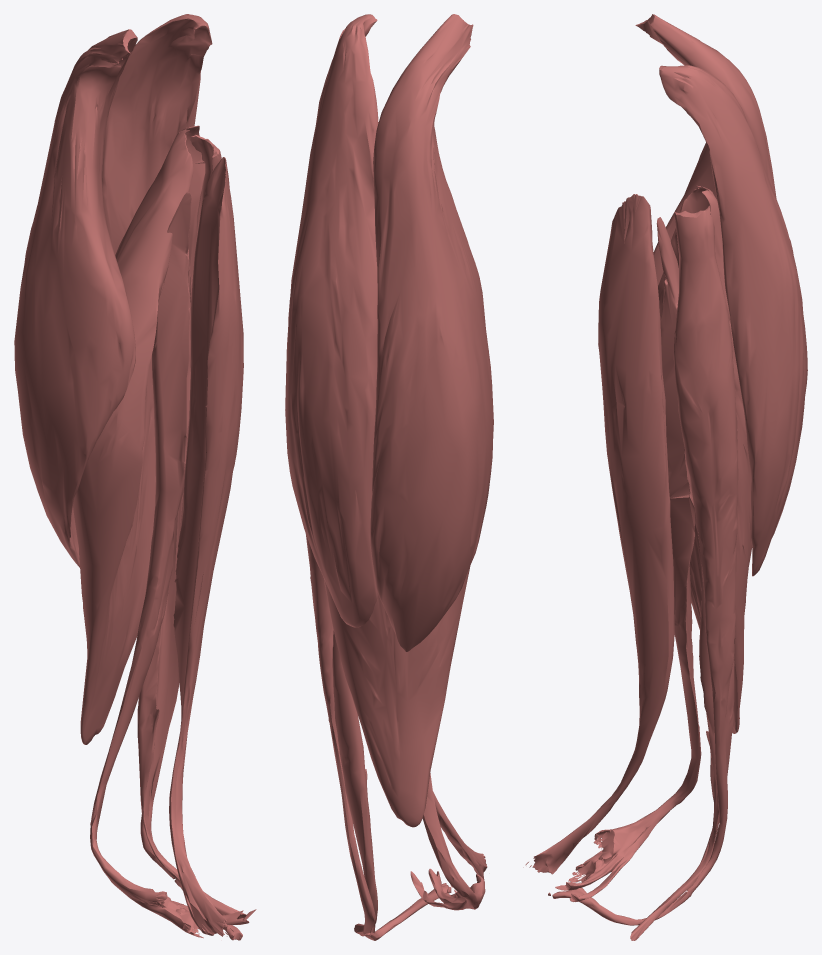
The model's file is muscular-leg-left.glb.
3 views of the same model, side by side, from view 1: azimuth 30°, elevation 25°; view 2: azimuth 150°, elevation 25°; view 3: azimuth 270°, elevation 25° (orthographic). The views are drawn at different scales.
Parts seen in each view (by area): view 1: bp3d_FMA45958_FJ1397M, bp3d_FMA22559_FJ1437M, bp3d_FMA22545_FJ1439M, bp3d_FMA65019_FJ1440M, bp3d_FMA45961_FJ1394M, bp3d_FMA22555_FJ1409M, bp3d_FMA22553_FJ1410M; view 2: bp3d_FMA45958_FJ1397M, bp3d_FMA45961_FJ1394M, bp3d_FMA22559_FJ1437M, bp3d_FMA22553_FJ1410M, bp3d_FMA22555_FJ1409M, bp3d_FMA65019_FJ1440M, bp3d_FMA22545_FJ1439M; view 3: bp3d_FMA22545_FJ1439M, bp3d_FMA45961_FJ1394M, bp3d_FMA22553_FJ1410M, bp3d_FMA65019_FJ1440M, bp3d_FMA22559_FJ1437M, bp3d_FMA45958_FJ1397M, bp3d_FMA22555_FJ1409M.
Part boxes in pixels (left/top/right/bottom): bp3d_FMA45958_FJ1397M: left=14, top=29, right=137, bottom=567; bp3d_FMA22559_FJ1437M: left=73, top=125, right=205, bottom=744; bp3d_FMA22545_FJ1439M: left=169, top=157, right=243, bottom=936; bp3d_FMA65019_FJ1440M: left=90, top=192, right=256, bottom=938; bp3d_FMA45961_FJ1394M: left=102, top=14, right=212, bottom=254; bp3d_FMA22555_FJ1409M: left=137, top=491, right=246, bottom=918; bp3d_FMA22553_FJ1410M: left=140, top=135, right=242, bottom=940; bp3d_FMA45958_FJ1397M: left=370, top=14, right=493, bottom=651; bp3d_FMA45961_FJ1394M: left=285, top=14, right=378, bottom=627; bp3d_FMA22559_FJ1437M: left=324, top=566, right=470, bottom=827; bp3d_FMA22553_FJ1410M: left=305, top=533, right=452, bottom=940; bp3d_FMA22555_FJ1409M: left=332, top=631, right=377, bottom=936; bp3d_FMA65019_FJ1440M: left=410, top=773, right=485, bottom=910; bp3d_FMA22545_FJ1439M: left=433, top=791, right=487, bottom=882; bp3d_FMA22545_FJ1439M: left=523, top=194, right=674, bottom=874; bp3d_FMA45961_FJ1394M: left=659, top=65, right=807, bottom=576; bp3d_FMA22553_FJ1410M: left=548, top=205, right=738, bottom=925; bp3d_FMA65019_FJ1440M: left=555, top=217, right=701, bottom=901; bp3d_FMA22559_FJ1437M: left=658, top=185, right=751, bottom=733; bp3d_FMA45958_FJ1397M: left=635, top=14, right=776, bottom=547; bp3d_FMA22555_FJ1409M: left=630, top=574, right=734, bottom=940.
Bounding box in the file's own units: 0.1047 × 0.488 × 0.1438.
